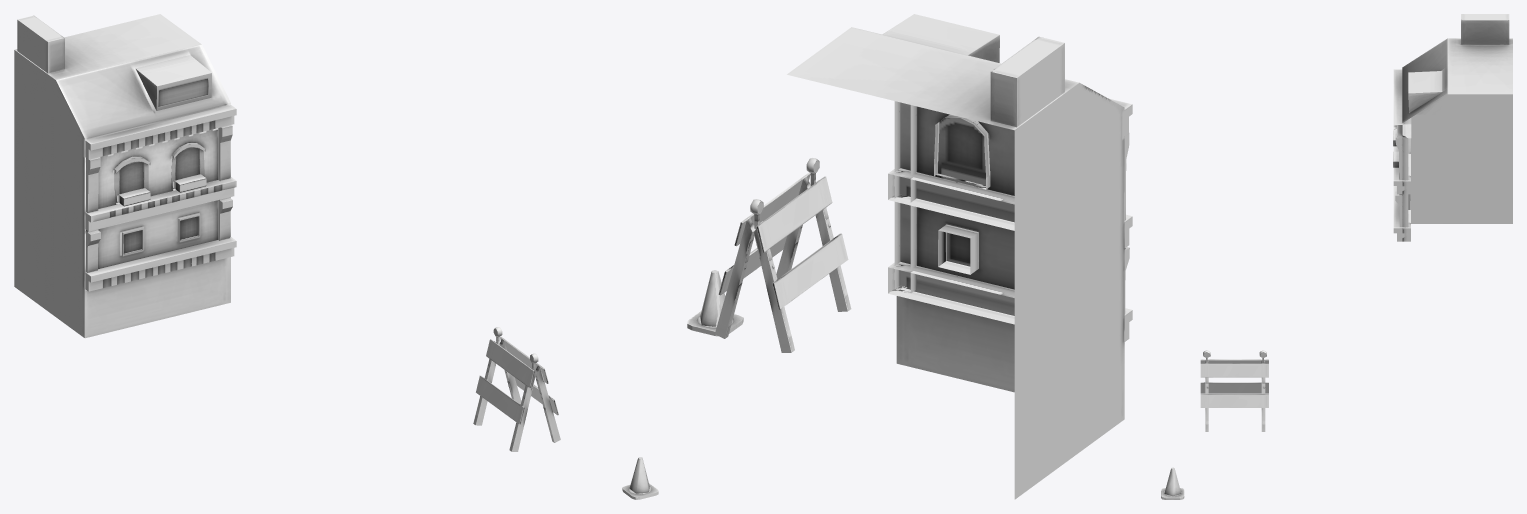
Rendered from Models.FBX.
3 renders of one model, left to right at view 1: azimuth 30°, elevation 25°; view 2: azimuth 150°, elevation 25°; view 3: azimuth 270°, elevation 25°, orthographic. The views are drawn at different scales.
Visible parts, largest first — view 1: flatLow, Object002, Object001; view 2: flatLow, Object002, Object001; view 3: flatLow, Object002, Object001.
Boxes of the visible parts, x1,y1,x2,y2 form: flatLow: [14, 14, 236, 338]; Object002: [473, 327, 560, 451]; Object001: [622, 457, 658, 499]; flatLow: [787, 14, 1132, 499]; Object002: [715, 158, 851, 352]; Object001: [687, 270, 743, 336]; flatLow: [1393, 14, 1512, 241]; Object002: [1200, 350, 1268, 431]; Object001: [1161, 467, 1184, 499].
Size of the model in its own units: 102 by 96.1 by 94.28.
